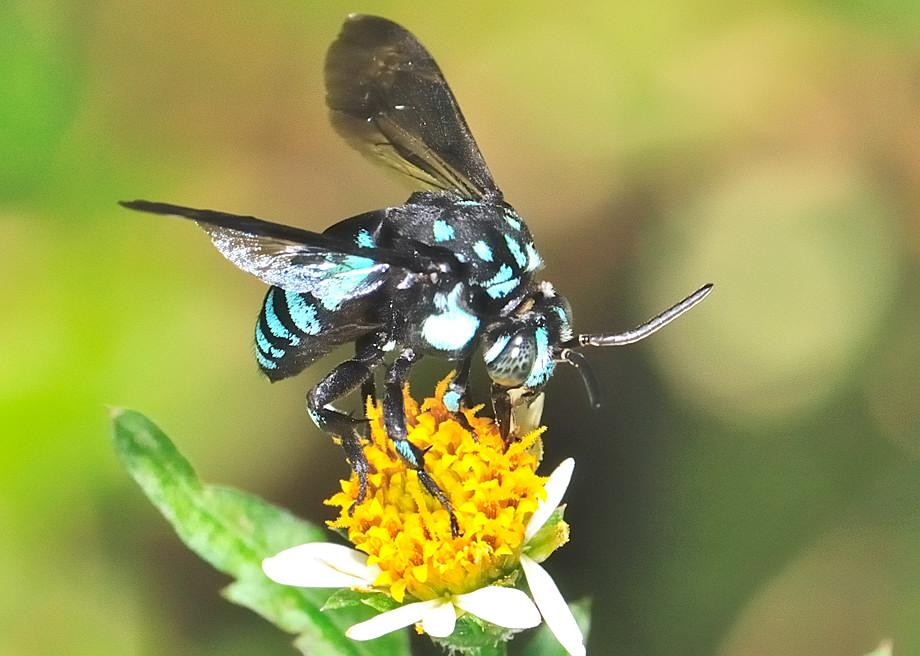Thyreus: (114, 2, 728, 516)
